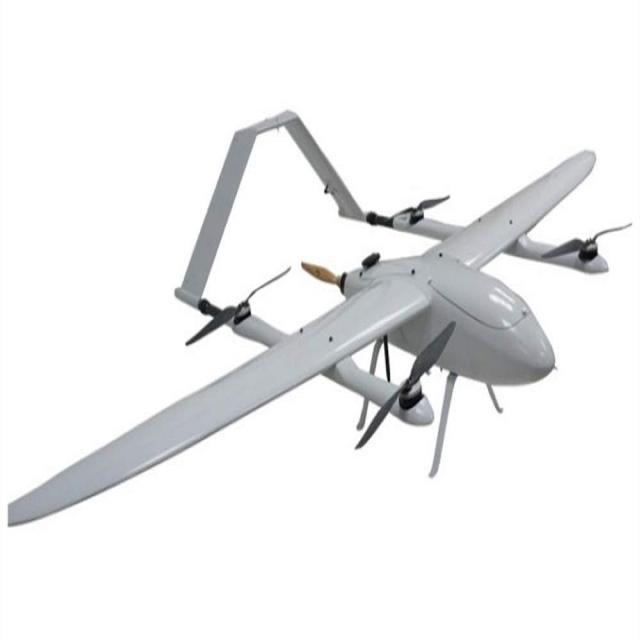UAV: (38, 110, 595, 447)
